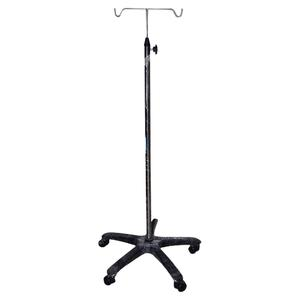Saline Stand: (97, 5, 201, 292)
